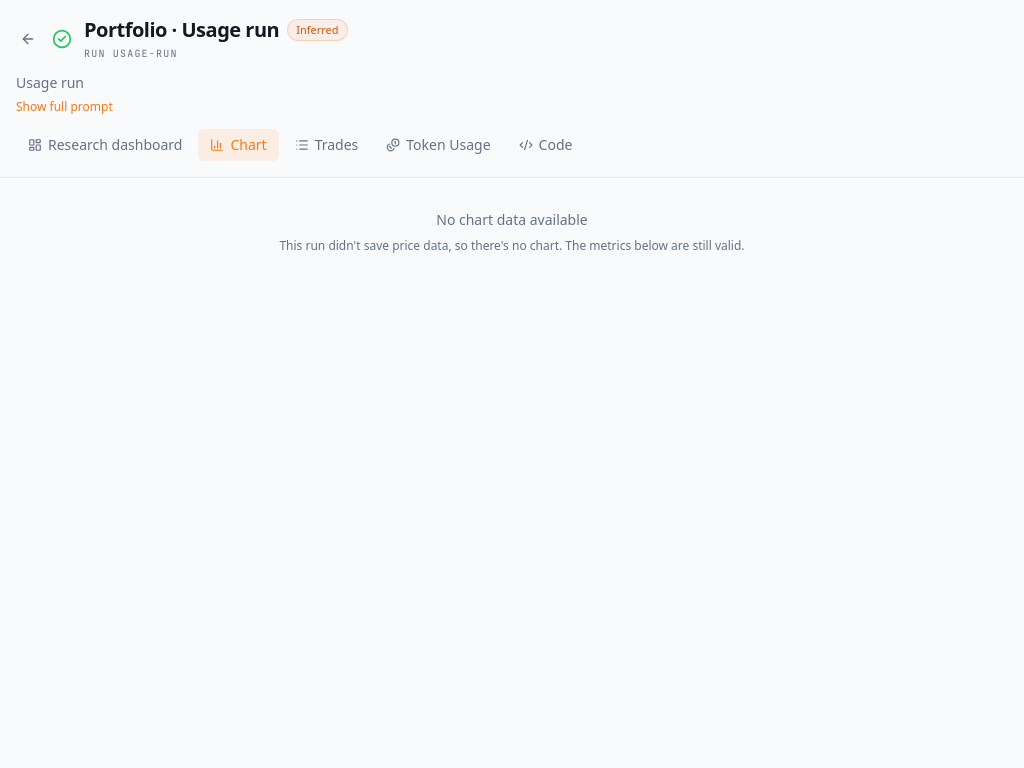
Test: RunDetail token-usage tab › shows the reported totals without inventing cache rows
Expected: the text "Usage run" is shown, [16, 73, 84, 92]
Click the tab "Token Usage".
click(438, 145)  # box [374, 129, 503, 161]
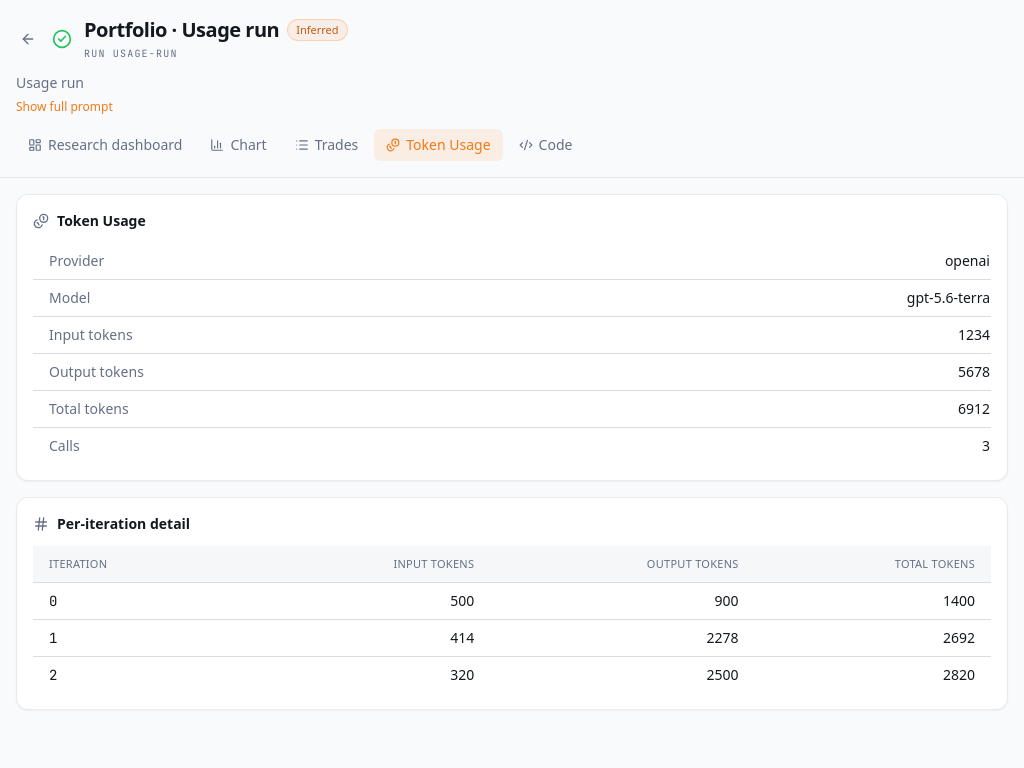
Now the text "1234" is shown, box [177, 316, 991, 354]
Now the text "5678" is shown, box [177, 354, 991, 390]
Now the text "6912" is shown, box [177, 390, 991, 428]
